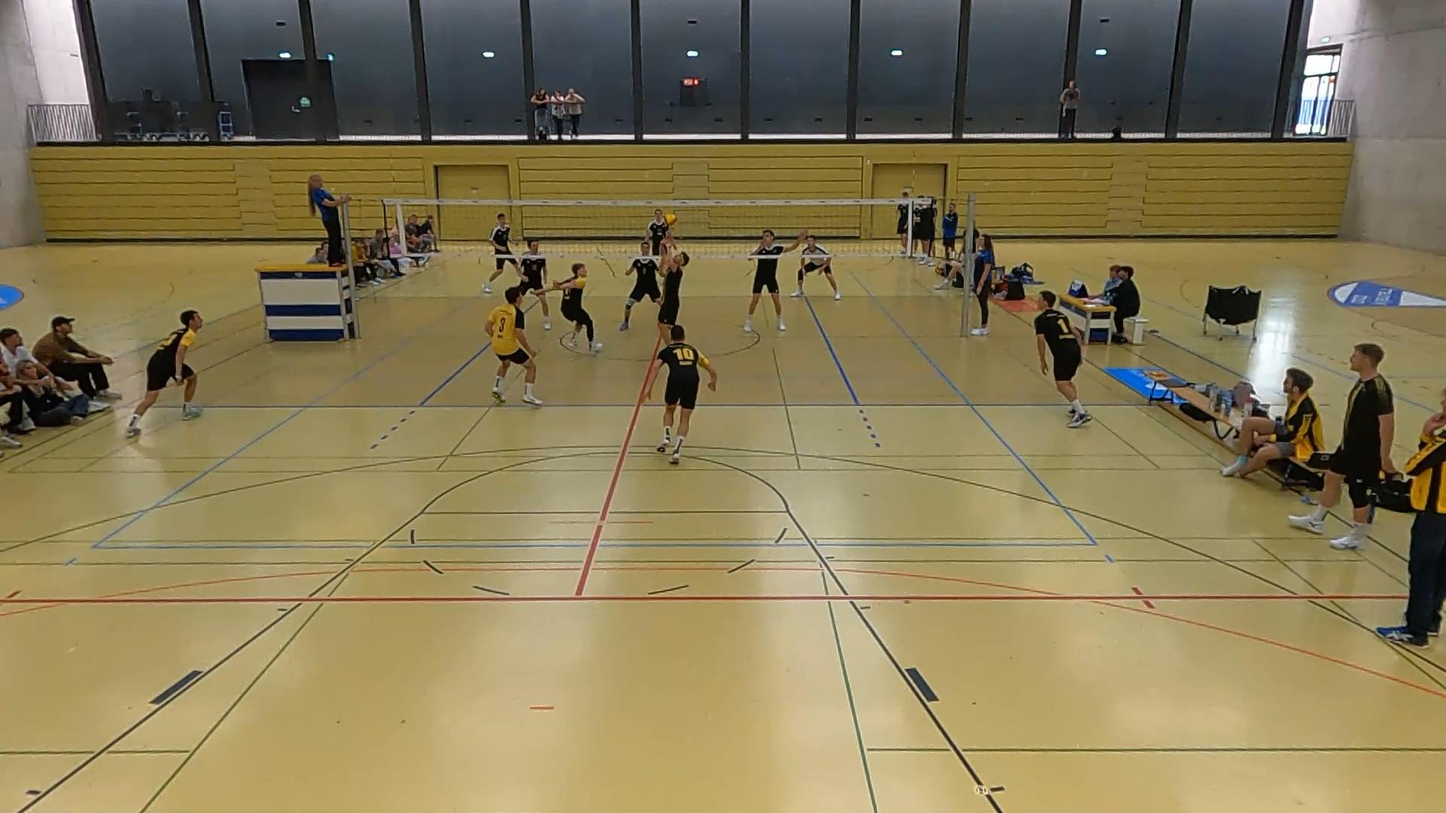Player: (125, 309, 203, 437), (647, 324, 717, 463), (1034, 291, 1092, 428), (484, 287, 541, 405), (743, 229, 806, 332), (554, 263, 601, 353), (791, 234, 840, 300), (619, 254, 661, 329), (483, 212, 520, 293), (517, 239, 550, 329), (647, 209, 670, 256)
Set: (637, 234, 699, 351)
ball: (664, 210, 677, 228)
